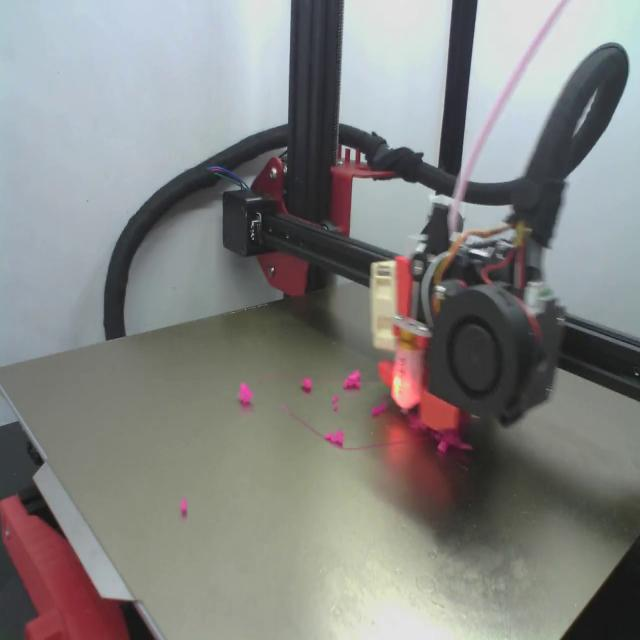spaghetti: (282, 403, 400, 450), (430, 430, 471, 453), (408, 413, 430, 431), (238, 383, 254, 407), (344, 370, 361, 388), (371, 403, 388, 417), (180, 498, 188, 518), (301, 378, 312, 392), (332, 397, 339, 409)
